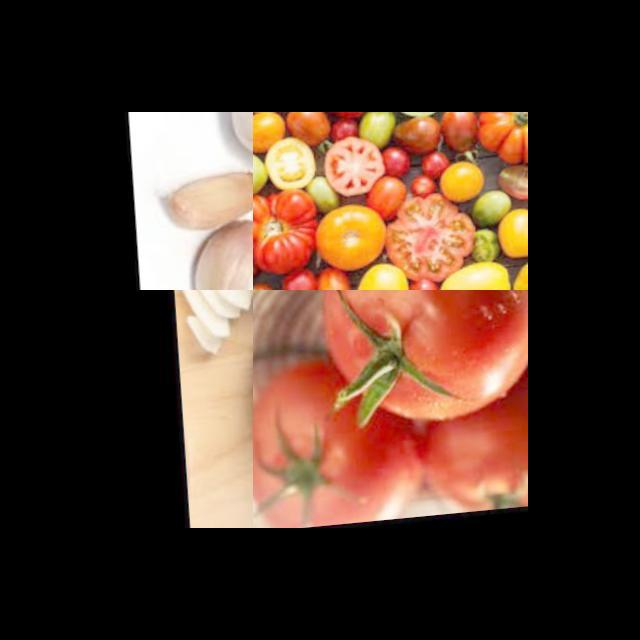garlic: (152, 164, 253, 239), (178, 214, 253, 290)
tomato: (253, 112, 528, 290), (311, 290, 528, 436), (253, 357, 422, 528), (410, 377, 528, 521)
